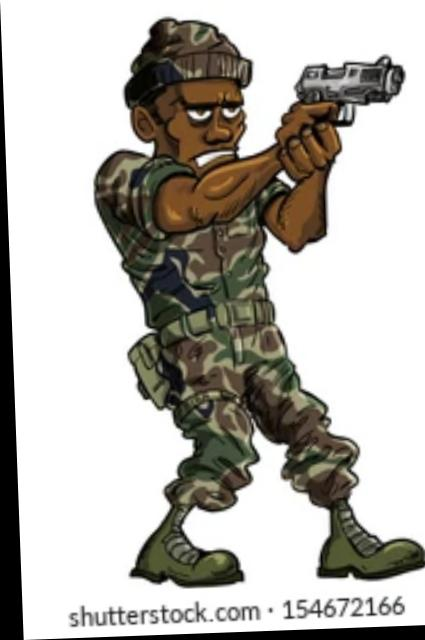other: (102, 27, 364, 576)
